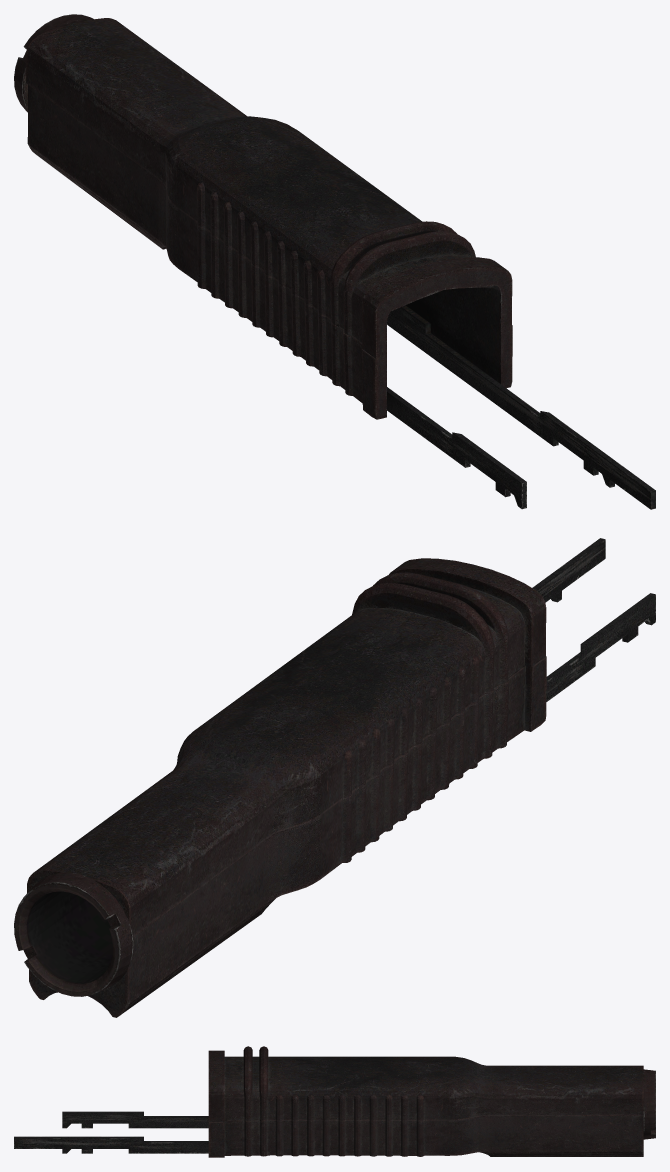
3 views of the same model, one above another, from view 1: azimuth 30°, elevation 25°; view 2: azimuth 150°, elevation 25°; view 3: azimuth 270°, elevation 25° (orthographic). The views are drawn at different scales.
Visible parts, largest first — view 1: TW_5e848d51e4dbc5266a4ec63b_PZ_Import; view 2: TW_5e848d51e4dbc5266a4ec63b_PZ_Import; view 3: TW_5e848d51e4dbc5266a4ec63b_PZ_Import.
Boxes of the visible parts, x1=… form: TW_5e848d51e4dbc5266a4ec63b_PZ_Import: x1=14, y1=14, x2=655, y2=509; TW_5e848d51e4dbc5266a4ec63b_PZ_Import: x1=14, y1=538, x2=655, y2=1017; TW_5e848d51e4dbc5266a4ec63b_PZ_Import: x1=14, y1=1046, x2=655, y2=1157.
Size of the model in its own units: 0.0322 by 0.2214 by 0.0349.
Materials: 1 (1 with a texture image).
